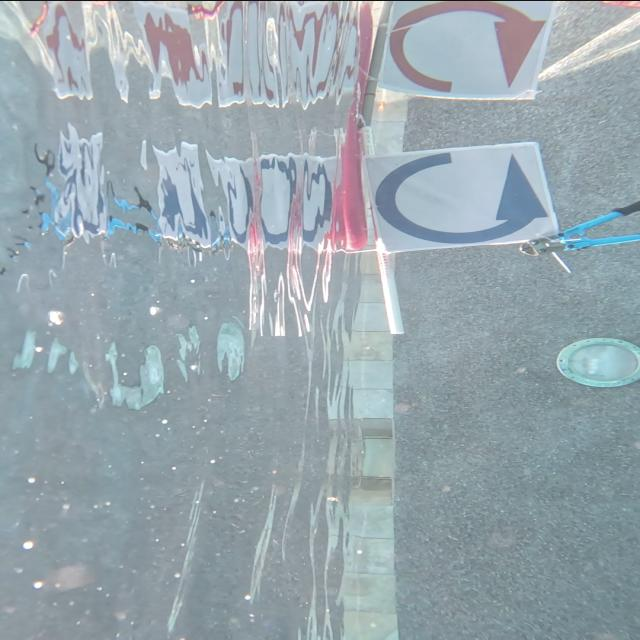blue_side: (378, 146, 552, 248)
red_side: (377, 0, 542, 97)
